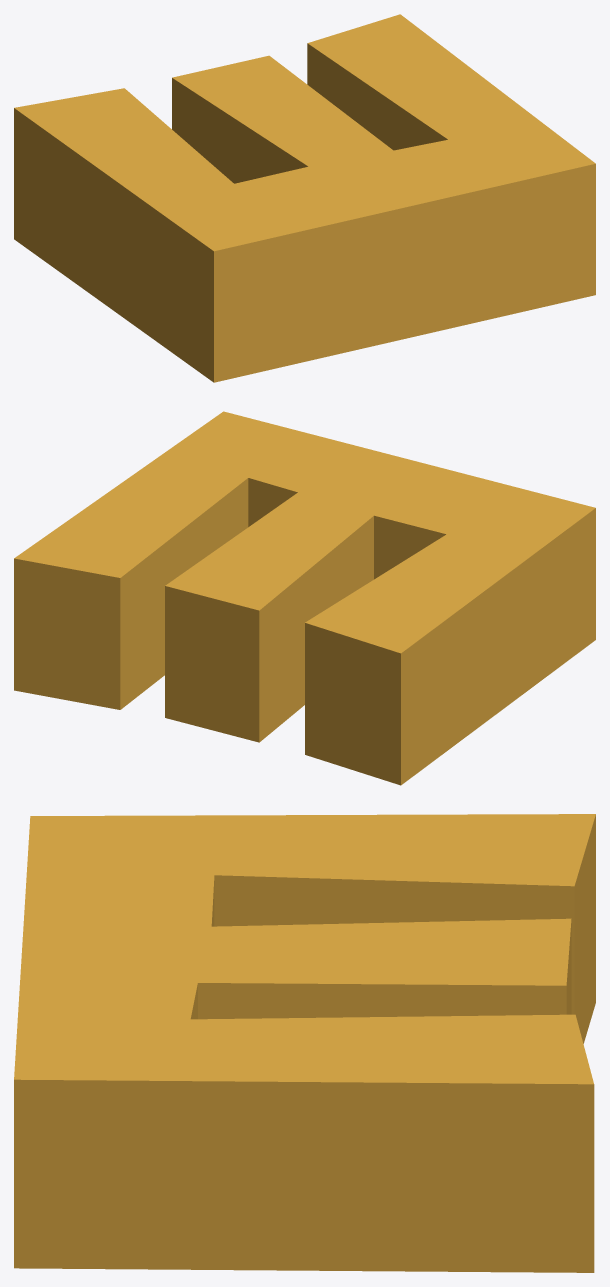
File: maize_e.fbx
3 views of the same model, one above another, from view 1: azimuth 30°, elevation 25°; view 2: azimuth 150°, elevation 25°; view 3: azimuth 270°, elevation 25° (orthographic). The views are drawn at different scales.
Parts seen in each view (by area): view 1: E.002; view 2: E.002; view 3: E.002.
Part boxes in pixels (bbox=[...]): E.002: bbox=[14, 14, 595, 382]; E.002: bbox=[14, 411, 595, 785]; E.002: bbox=[14, 814, 595, 1272].
Size of the model in its own units: 498 by 162 by 454.
